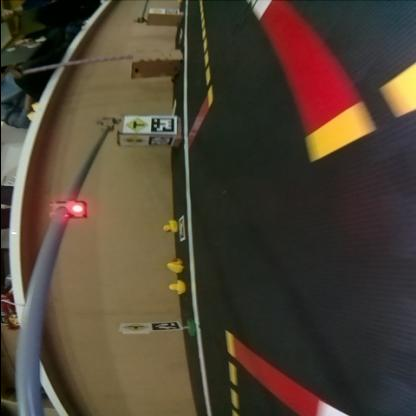Duckie: (166, 281, 184, 294), (166, 259, 180, 273), (162, 220, 176, 233)
Intersection sign: (124, 118, 146, 132), (122, 324, 148, 332)
QR code: (148, 118, 174, 132), (146, 138, 172, 146), (176, 217, 184, 241), (150, 323, 177, 330)
Signal sign: (121, 136, 143, 146)
Traffic light: (49, 200, 83, 220)
